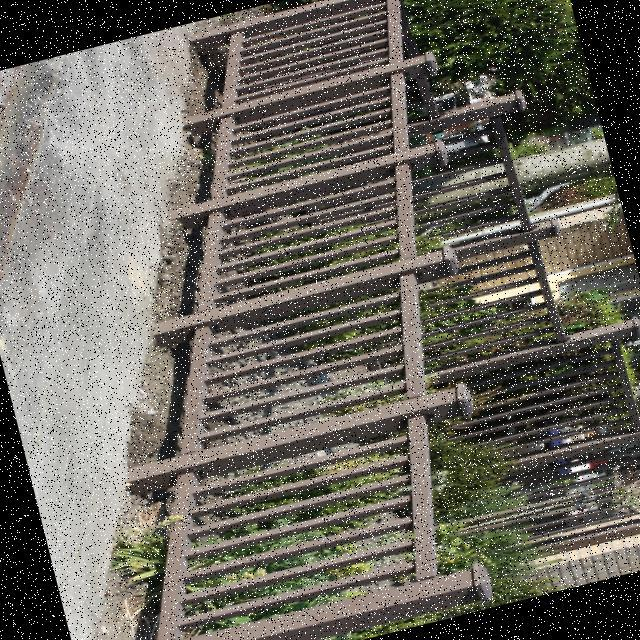fence line: (69, 256, 525, 639), (343, 192, 639, 583), (141, 54, 478, 362), (151, 0, 501, 267)
